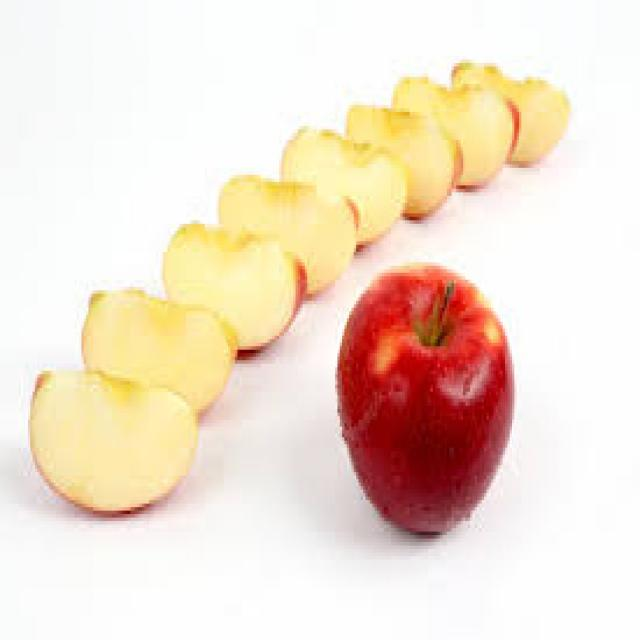Apple: (337, 267, 516, 537), (28, 368, 193, 513), (83, 286, 235, 410), (170, 227, 305, 354), (226, 176, 356, 292), (288, 126, 404, 246), (403, 78, 518, 187), (355, 106, 464, 219), (461, 61, 567, 158)
